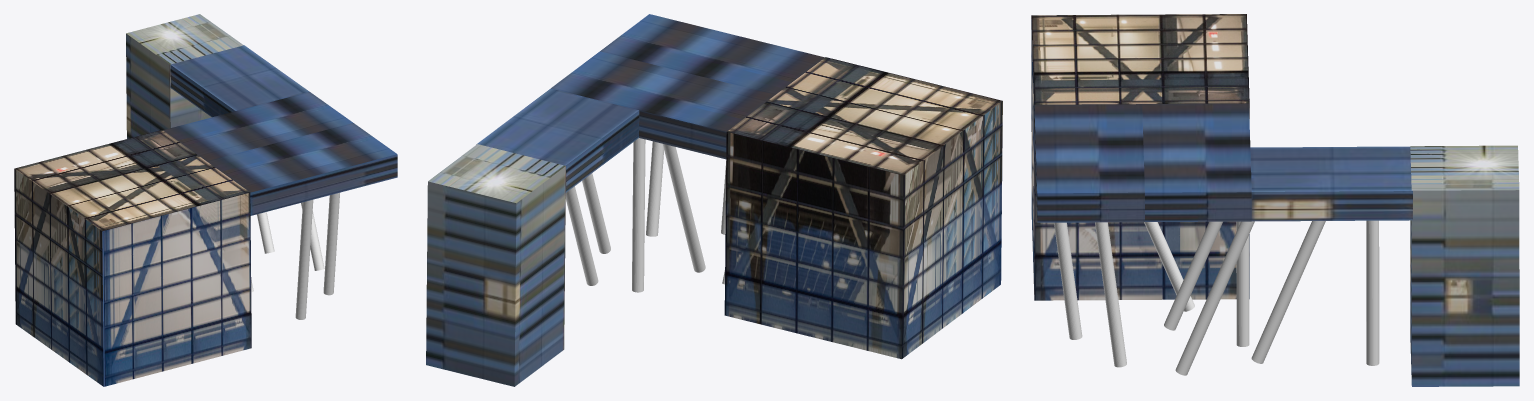
Rendered from livi_business.glb.
The picture shows the model from 3 angles, left to right: view 1: azimuth 30°, elevation 25°; view 2: azimuth 150°, elevation 25°; view 3: azimuth 270°, elevation 25°; orthographic projection. The views are drawn at different scales.
Visible parts, largest first — view 1: Cube, Cube.002, Cube.003, Cube.004, Cube.001, Cylinder.003, Cylinder.004, Cylinder, Cylinder.005; view 2: Cube, Cube.003, Cube.004, Cube.002, Cube.001, Cylinder.001, Cylinder.006, Cylinder.005, Cylinder.004, Cylinder; view 3: Cube, Cube.003, Cube.002, Cube.004, Cube.001, Cylinder, Cylinder.005, Cylinder.002, Cylinder.004, Cylinder.003, Cylinder.006, Cylinder.001 (+1 smaller).
Boxes of the visible parts, left/top/right/bottom form: Cube: left=14, top=130, right=251, bottom=386; Cube.002: left=207, top=123, right=397, bottom=215; Cube.003: left=126, top=14, right=243, bottom=138; Cube.004: left=163, top=92, right=352, bottom=161; Cube.001: left=170, top=45, right=309, bottom=117; Cylinder.003: left=295, top=200, right=313, bottom=319; Cylinder.004: left=323, top=192, right=339, bottom=295; Cylinder: left=301, top=202, right=324, bottom=270; Cylinder.005: left=257, top=212, right=274, bottom=253; Cube: left=724, top=57, right=1002, bottom=359; Cube.003: left=426, top=144, right=565, bottom=386; Cube.004: left=551, top=51, right=775, bottom=159; Cube.002: left=600, top=14, right=824, bottom=94; Cube.001: left=476, top=88, right=639, bottom=192; Cylinder.001: left=632, top=138, right=645, bottom=292; Cylinder.006: left=662, top=144, right=705, bottom=272; Cylinder.005: left=565, top=186, right=598, bottom=285; Cylinder.004: left=646, top=141, right=663, bottom=236; Cylinder: left=582, top=173, right=610, bottom=253; Cube: left=1031, top=14, right=1249, bottom=300; Cube.003: left=1410, top=145, right=1519, bottom=386; Cube.002: left=1034, top=104, right=1144, bottom=222; Cube.004: left=1142, top=103, right=1251, bottom=221; Cube.001: left=1250, top=146, right=1412, bottom=221; Cylinder: left=1175, top=221, right=1254, bottom=375; Cylinder.005: left=1251, top=221, right=1325, bottom=363; Cylinder.002: left=1366, top=220, right=1379, bottom=365; Cylinder.004: left=1095, top=222, right=1126, bottom=367; Cylinder.003: left=1054, top=222, right=1082, bottom=339; Cylinder.006: left=1164, top=221, right=1222, bottom=330; Cylinder.001: left=1236, top=221, right=1249, bottom=346.
Size of the model in its own units: 19.2 by 9.75 by 21.66.
13 materials, 5 textured.
